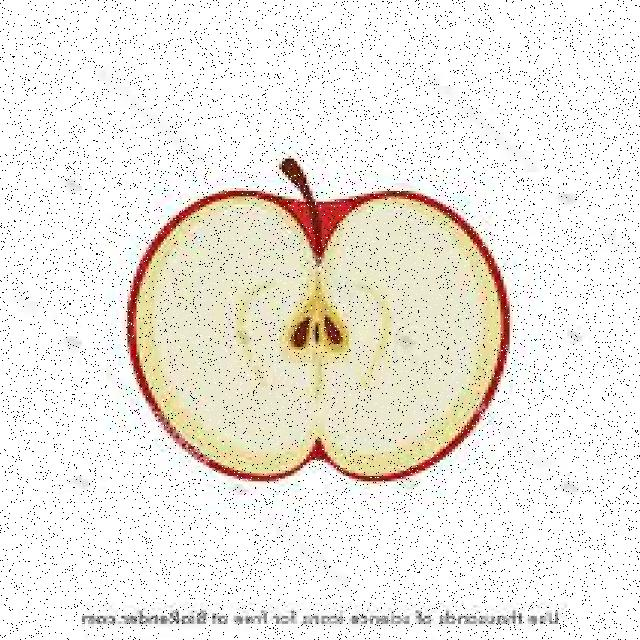Apple: (128, 189, 518, 483)
